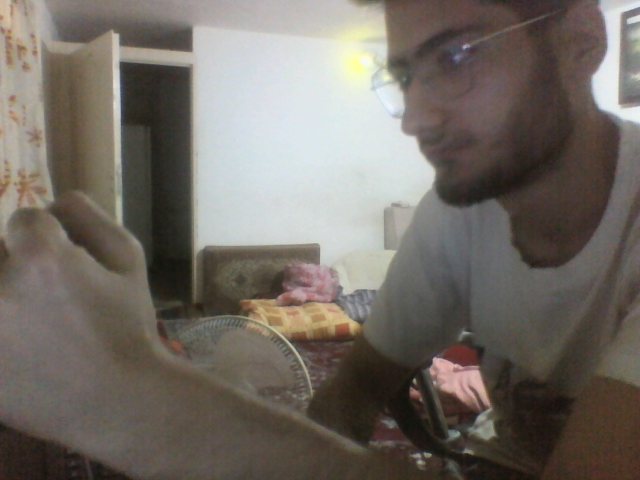attack: (1, 184, 163, 445)
sorat: (373, 3, 609, 209)
